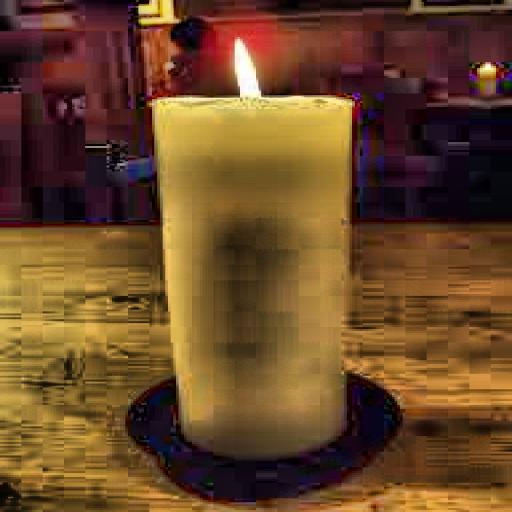fire: (221, 31, 267, 97)
